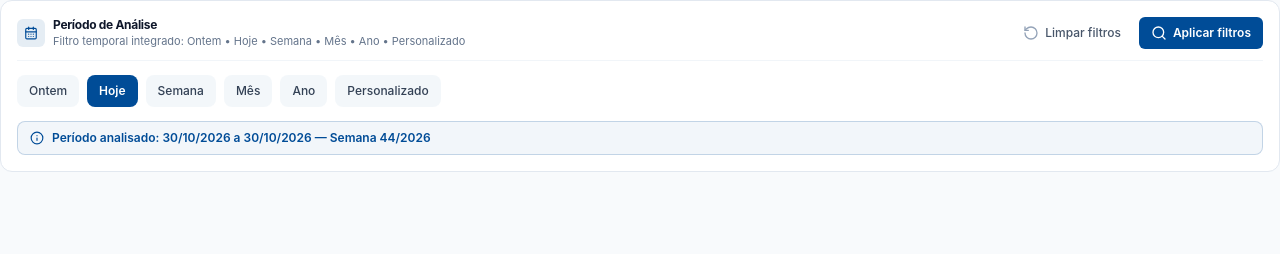
Test: Suíte de Aceite Completa — Cenários 1 a 12: Período de Análise (Previsto x Realizado) › Cenário 3: Seleção de Semana exibe Linha 2 com Semana ISO e Ano
This screenshot has width=1280, height=254.
Click the button with test id "period-btn-semana".
click(181, 90)  # box [146,74,216,106]
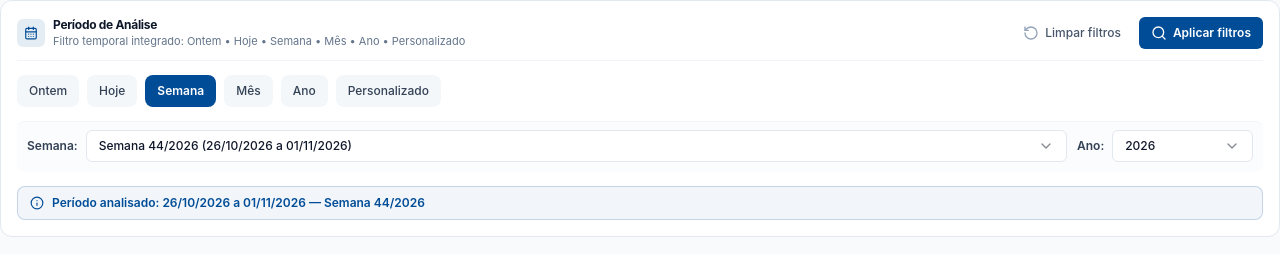
expect the element with test id "period-line2-semana" is shown: met, box [17,120,1263,172]
expect the text "Semana:" is shown: met, box [27,138,78,154]
expect the text "Ano:" is shown: met, box [1077,138,1104,154]
